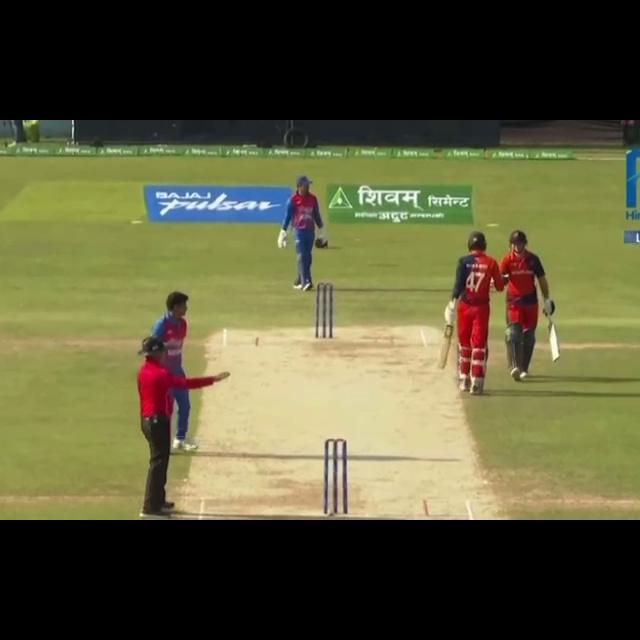umpire: (125, 330, 232, 520)
